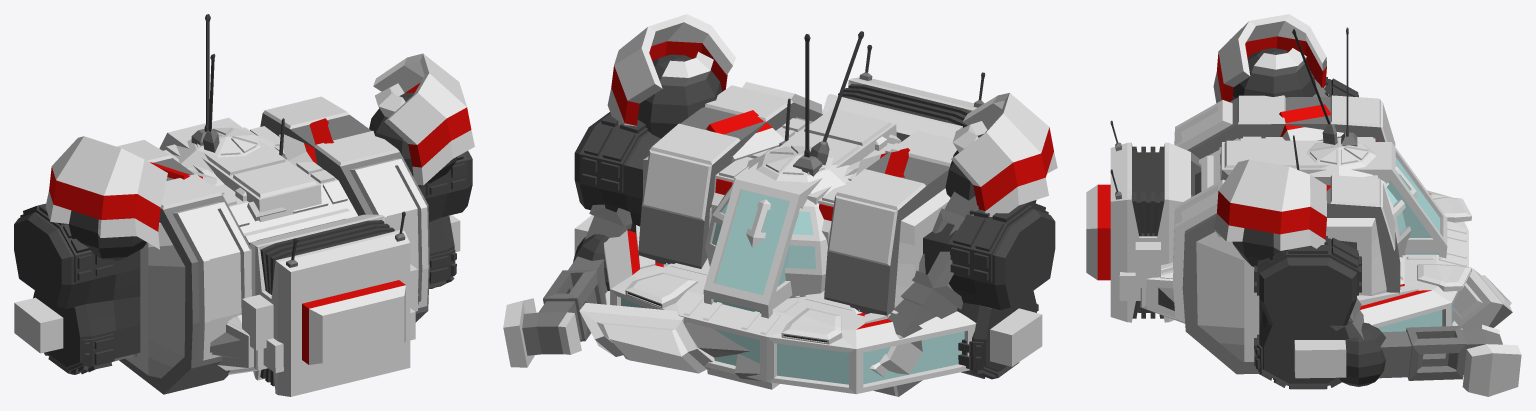
Rendered from Chassis 1.fbx.
3 views of the same model, side by side, from view 1: azimuth 30°, elevation 25°; view 2: azimuth 150°, elevation 25°; view 3: azimuth 270°, elevation 25° (orthographic). The views are drawn at different scales.
Parts seen in each view (by area): view 1: DOZER, PROMETHEUS, CLERIC, HAMMERHEAD; view 2: CLERIC, DOZER, HAMMERHEAD, PROMETHEUS; view 3: DOZER, CLERIC, PROMETHEUS, HAMMERHEAD.
Part boxes in pixels (x1=…): DOZER: x1=14, y1=96, x2=472, y2=394; PROMETHEUS: x1=159, y1=14, x2=417, y2=396; CLERIC: x1=45, y1=53, x2=474, y2=260; HAMMERHEAD: x1=14, y1=215, x2=460, y2=374; CLERIC: x1=503, y1=14, x2=1057, y2=380; DOZER: x1=574, y1=82, x2=1055, y2=396; HAMMERHEAD: x1=574, y1=215, x2=1042, y2=394; PROMETHEUS: x1=703, y1=34, x2=985, y2=389; DOZER: x1=1173, y1=77, x2=1400, y2=389; CLERIC: x1=1213, y1=14, x2=1521, y2=396; PROMETHEUS: x1=1086, y1=27, x2=1447, y2=322; HAMMERHEAD: x1=1119, y1=190, x2=1471, y2=378.
Size of the model in its own units: 659 by 641 by 467.
